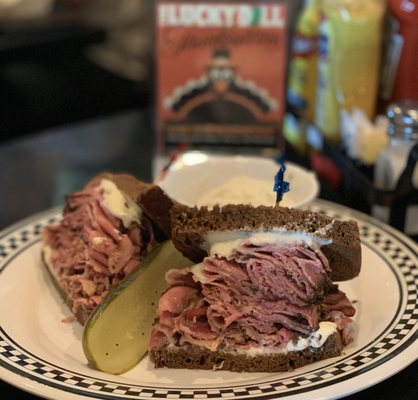soup: (147, 226, 360, 373)
